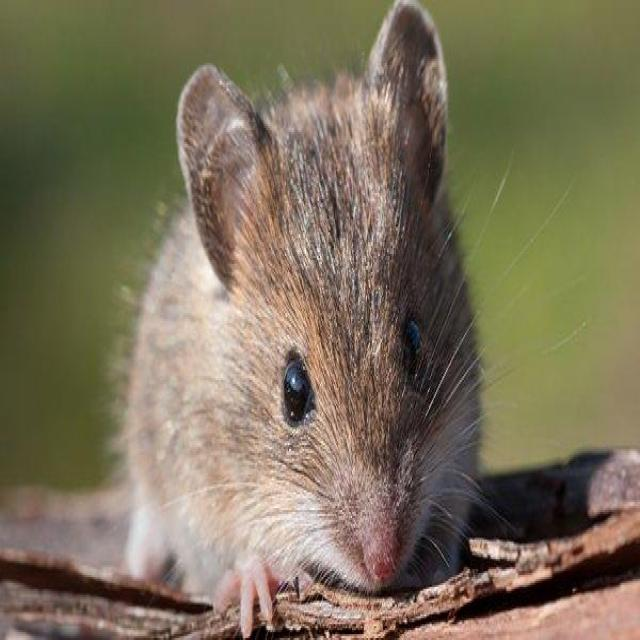rat: (100, 0, 491, 640)
